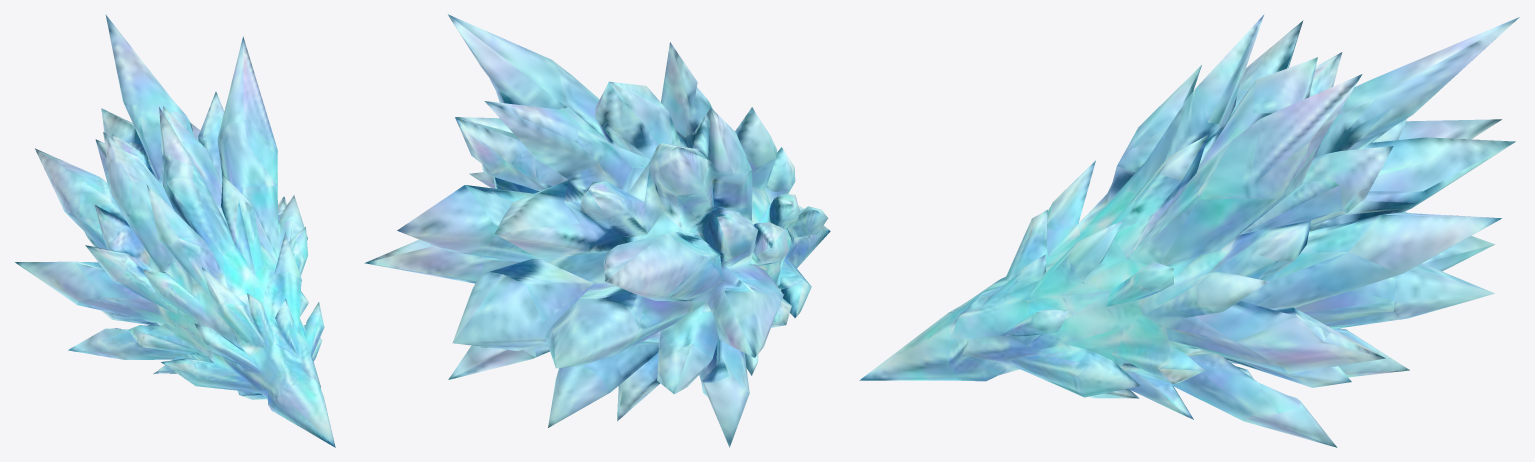
The model's file is bolt_ice.glb.
The picture shows the model from 3 angles, left to right: view 1: azimuth 30°, elevation 25°; view 2: azimuth 150°, elevation 25°; view 3: azimuth 270°, elevation 25°; orthographic projection. The views are drawn at different scales.
Visible parts, largest first — view 1: bolt_ice; view 2: bolt_ice; view 3: bolt_ice.
Boxes of the visible parts, <box> form: bolt_ice: <box>15,14,335,447</box>; bolt_ice: <box>364,14,830,447</box>; bolt_ice: <box>859,14,1519,447</box>.
Size of the model in its own units: 0.6635 by 0.6675 by 1.
Materials: 1 (1 with a texture image).
